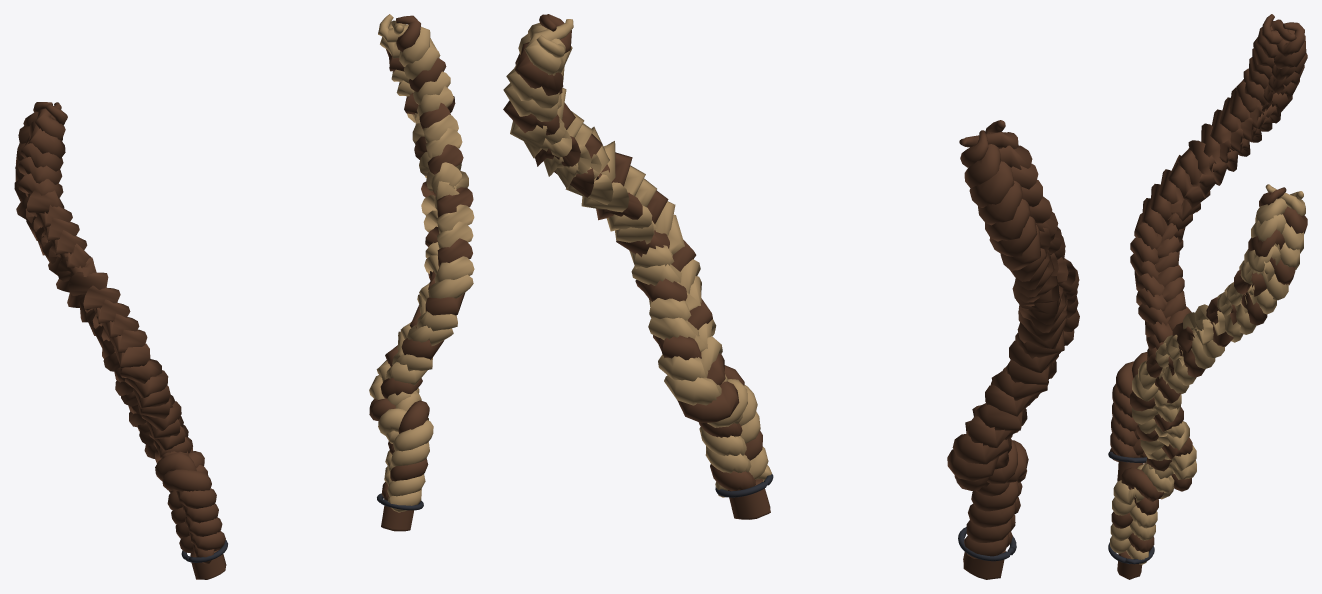
Rendered from Highlights-df323c3f45ee251-hair.glb.
3 views of the same model, side by side, from view 1: azimuth 30°, elevation 25°; view 2: azimuth 150°, elevation 25°; view 3: azimuth 270°, elevation 25° (orthographic). The views are drawn at different scales.
Visible parts, largest first — view 1: 226 hairLengths / Hair / chestnut226, 226 hairLengths / Hair / ties226; view 2: 226 hairLengths / Hair / chestnut226, 226 hairLengths / Hair / ties226; view 3: 226 hairLengths / Hair / chestnut226, 226 hairLengths / Hair / ties226.
Boxes of the visible parts, x1,y1,x2,y2 form: 226 hairLengths / Hair / chestnut226: (14,14,474,579); 226 hairLengths / Hair / ties226: (181,493,423,562); 226 hairLengths / Hair / chestnut226: (503,14,1079,579); 226 hairLengths / Hair / ties226: (715,474,1016,561); 226 hairLengths / Hair / chestnut226: (1110,14,1307,579); 226 hairLengths / Hair / ties226: (1108,451,1154,564).
Size of the model in its own units: 1.09 by 1.06 by 0.4449.
